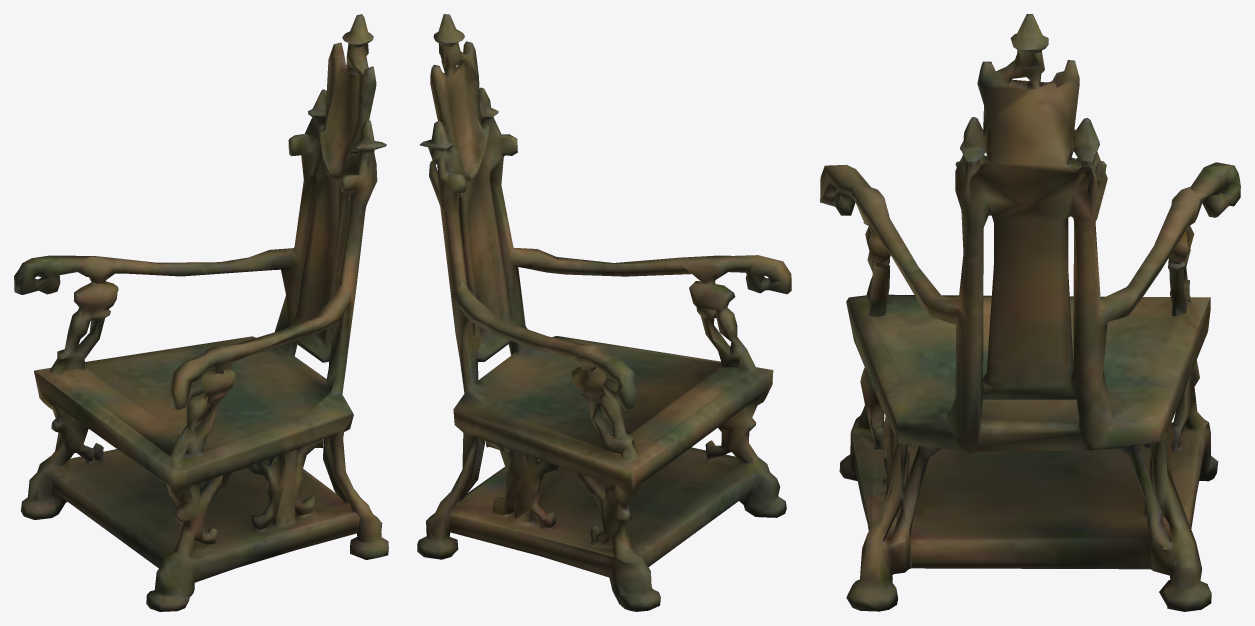
File: old-bronze-throne-v002.glb
3 views of the same model, side by side, from view 1: azimuth 30°, elevation 25°; view 2: azimuth 150°, elevation 25°; view 3: azimuth 270°, elevation 25° (orthographic). The views are drawn at different scales.
Parts seen in each view (by area): view 1: old-bronze-throne; view 2: old-bronze-throne; view 3: old-bronze-throne.
Boxes of the visible parts, x1,y1,x2,y2 form: old-bronze-throne: (14,14,388,611); old-bronze-throne: (417,14,791,611); old-bronze-throne: (820,14,1240,611).
Size of the model in its own units: 1.2 by 1.93 by 1.18.
1 material, 1 textured.
